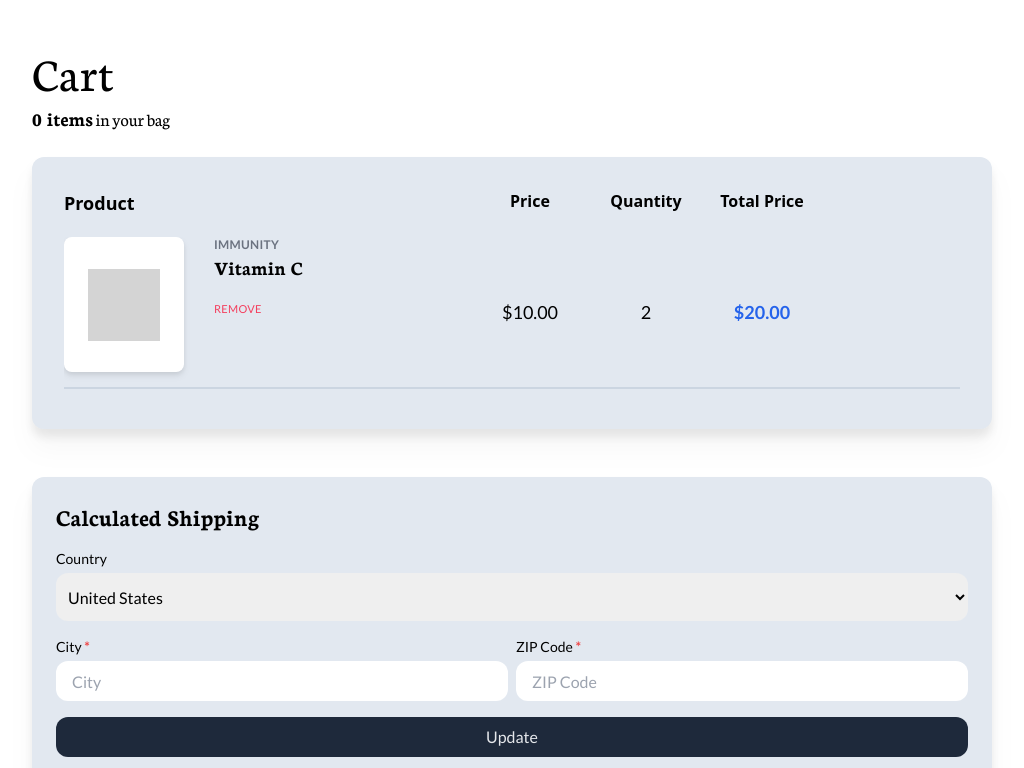
Test case: CartPage remove › does not remove the item when the confirmation is cancelled
Click the button "Remove" at coordinates (238, 309), box [206,297,270,322]
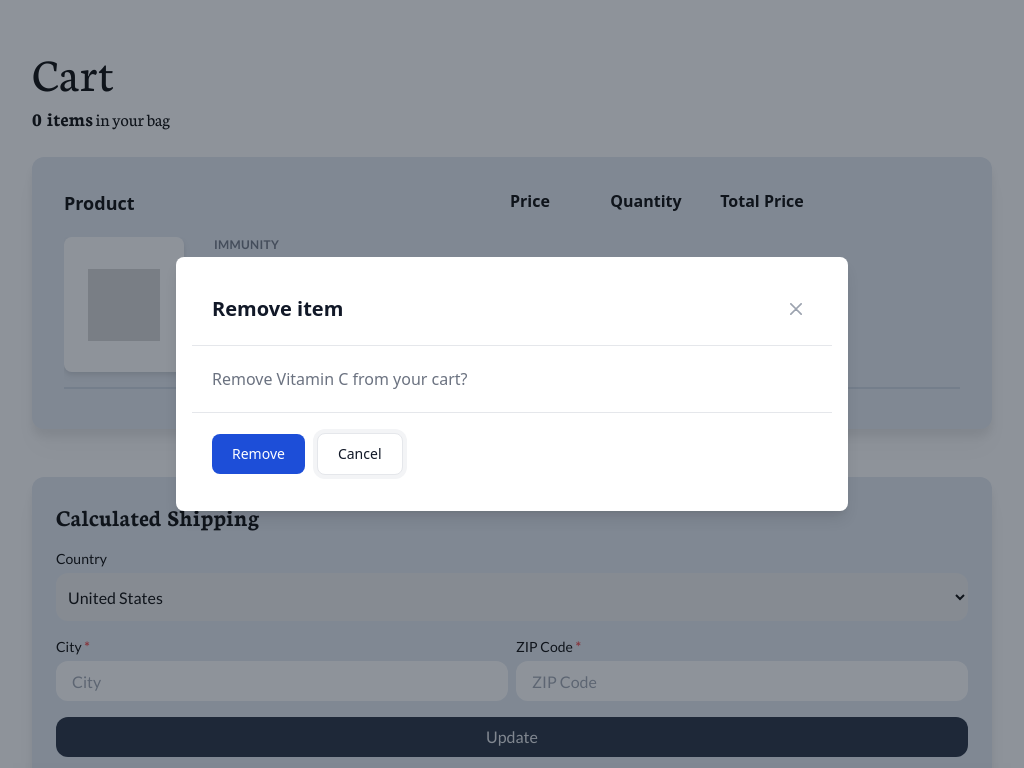
Click the button "Cancel" at coordinates (360, 454), box [317,433,402,475]
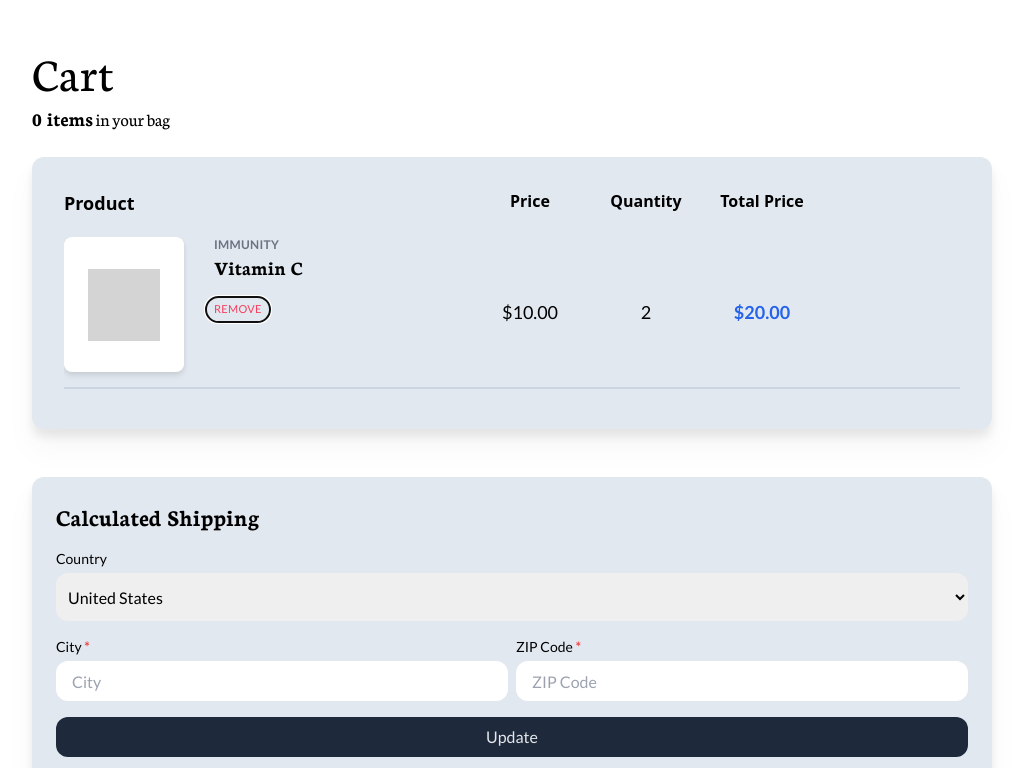
expect the dialog is gone: met
